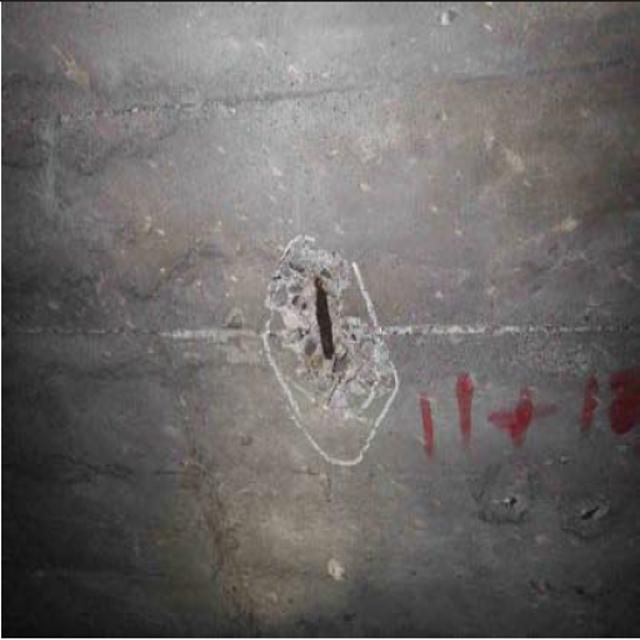spalling: (260, 234, 383, 446)
